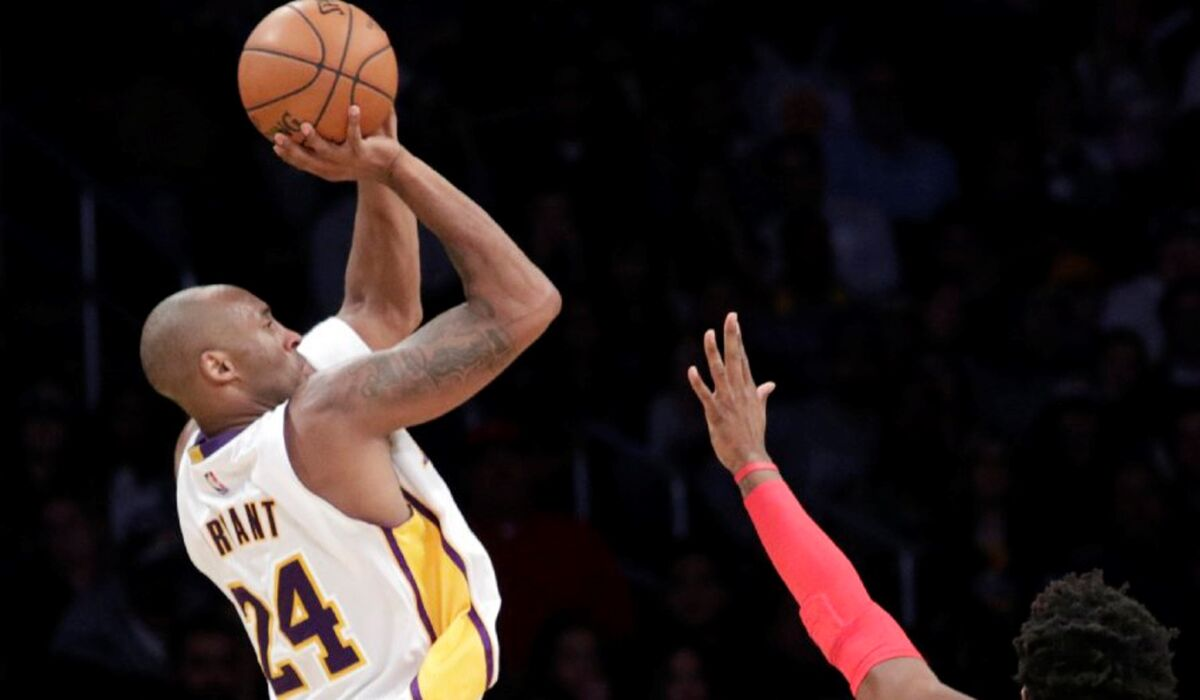Jumpshot: (238, 1, 562, 343)
